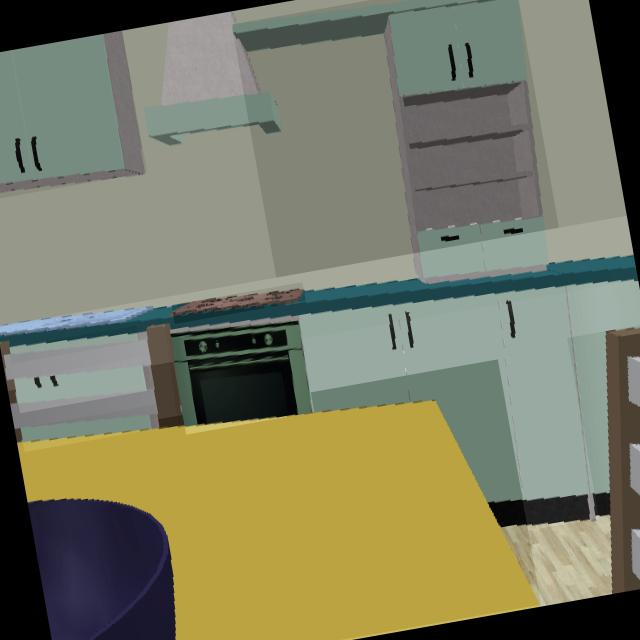cabinet: (232, 0, 549, 285), (300, 280, 640, 529), (0, 30, 145, 191), (15, 365, 146, 404), (21, 414, 158, 444), (9, 334, 139, 356)
chair: (0, 324, 183, 444), (606, 330, 640, 593)
countertop: (0, 255, 638, 348)
oven: (173, 321, 310, 426)
stove: (173, 290, 304, 316)
table: (17, 400, 540, 640)
